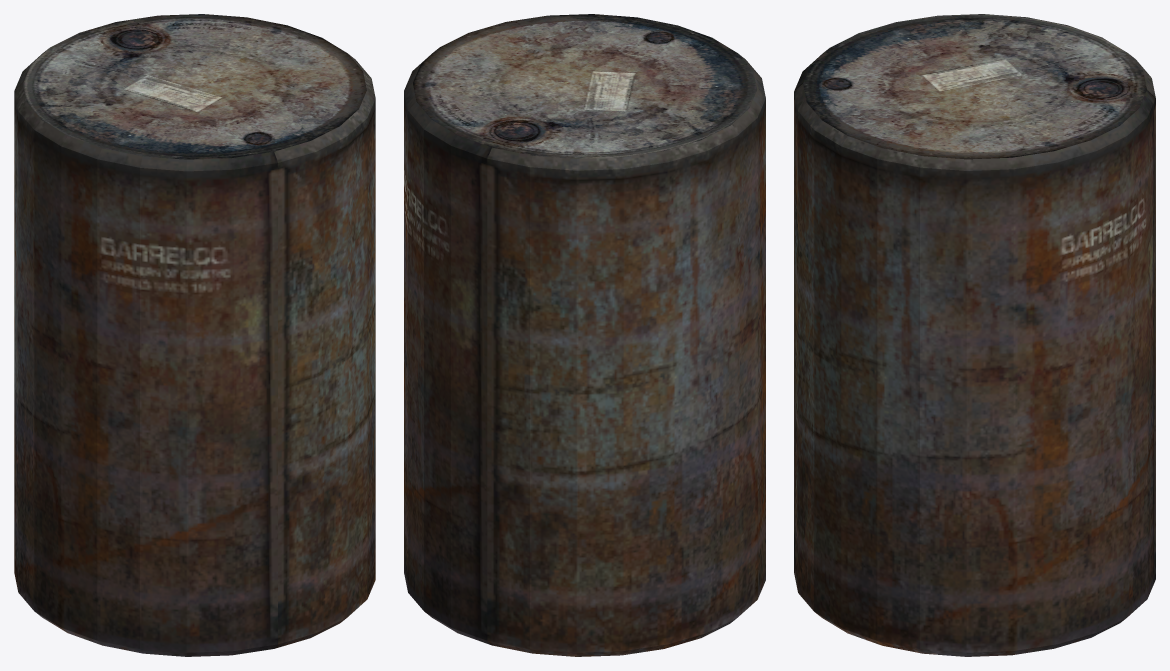
The model's file is Barrel D.obj.
The picture shows the model from 3 angles, left to right: view 1: azimuth 30°, elevation 25°; view 2: azimuth 150°, elevation 25°; view 3: azimuth 270°, elevation 25°; orthographic projection.
Visible parts, largest first — view 1: barrel_barrel_Barrel; view 2: barrel_barrel_Barrel; view 3: barrel_barrel_Barrel.
Part boxes in pixels (box(x1,y1,x2,y2)): barrel_barrel_Barrel: box(14, 14, 375, 656); barrel_barrel_Barrel: box(404, 14, 765, 656); barrel_barrel_Barrel: box(794, 14, 1155, 656).
Size of the model in its own units: 1.37 by 2.08 by 1.37.
Materials: 1 (1 with a texture image).
